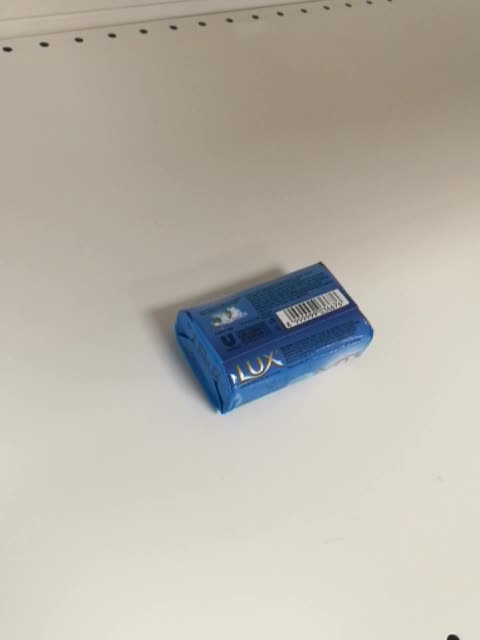soap: (171, 260, 375, 415)
